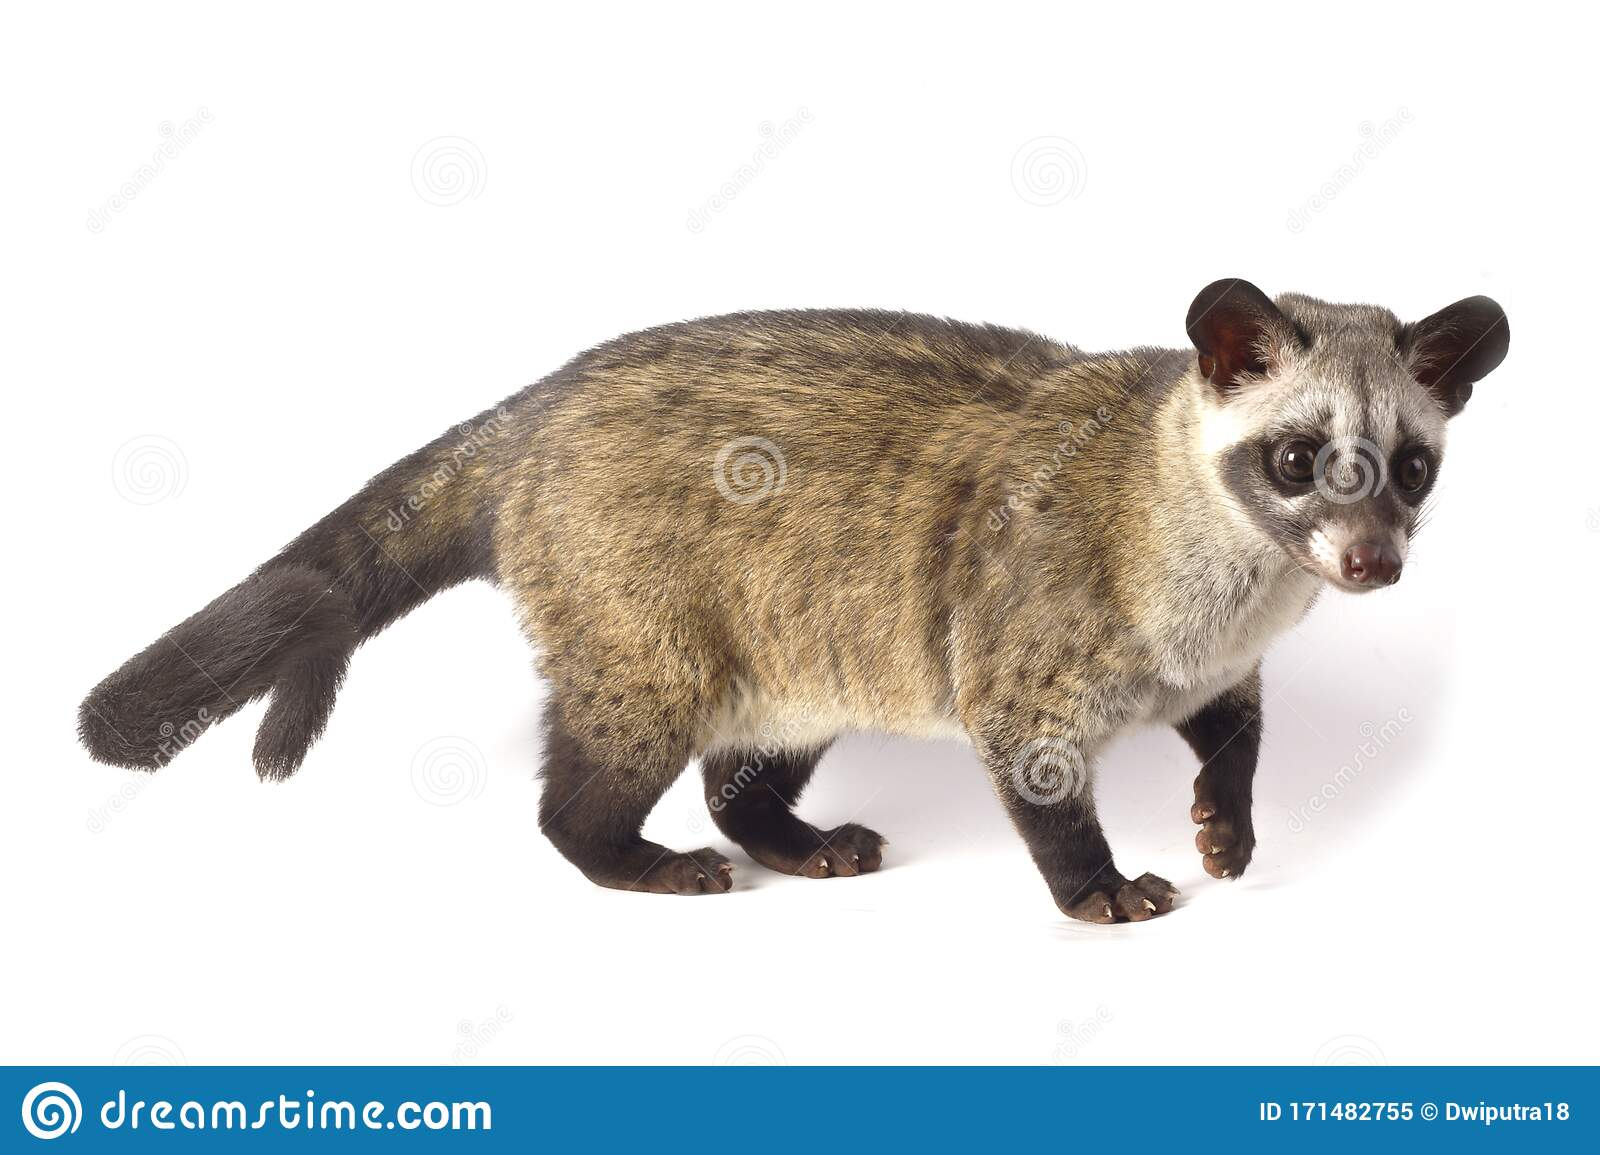Civet: (48, 219, 1548, 938)
